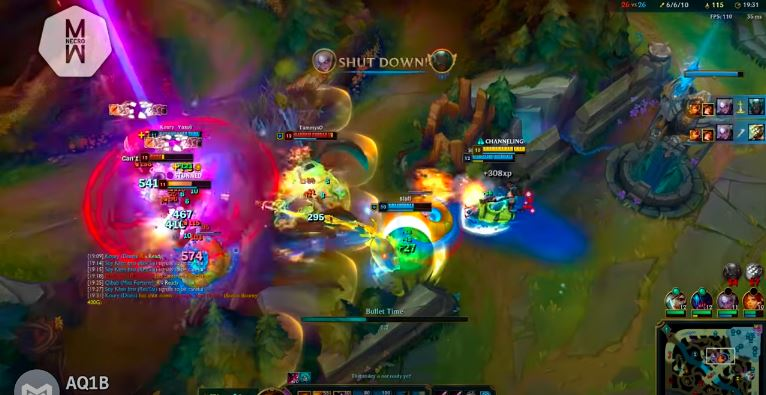bar: (153, 175, 214, 191), (136, 150, 197, 165), (471, 142, 529, 157), (142, 127, 204, 141), (376, 199, 431, 214), (461, 150, 516, 164), (283, 129, 339, 142)
